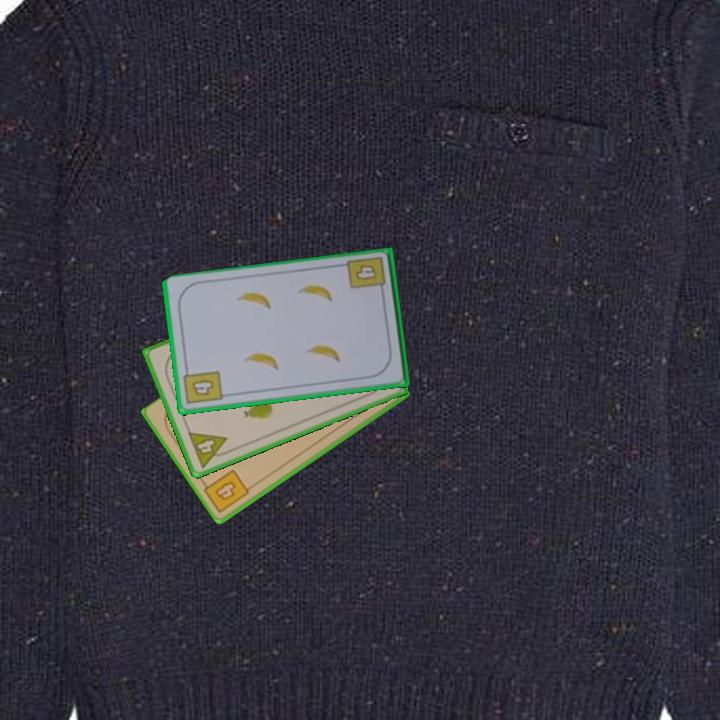4b: (198, 466, 252, 516), (344, 253, 389, 298), (180, 365, 225, 407)
4p: (184, 428, 235, 471)
